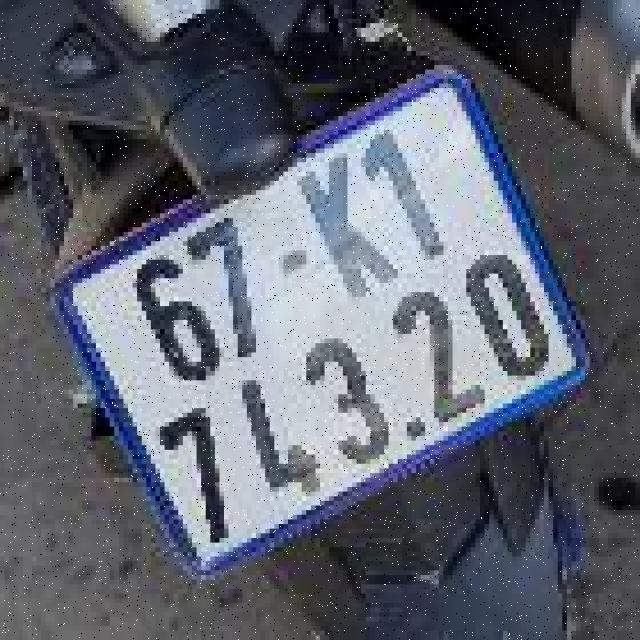0: (452, 235, 566, 396)
1: (349, 116, 471, 280)
2: (377, 269, 501, 437)
3: (291, 321, 408, 483)
4: (226, 357, 333, 521)
6: (120, 243, 232, 398)
7: (171, 203, 290, 373), (143, 400, 250, 558)
K: (277, 137, 417, 318)
